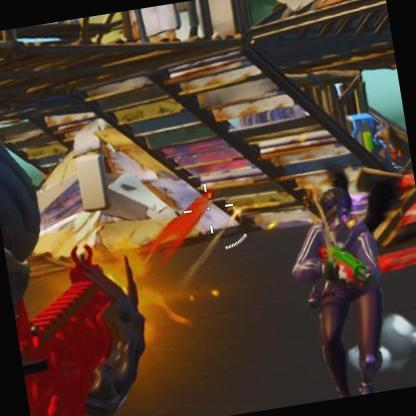person: (279, 179, 416, 399)
